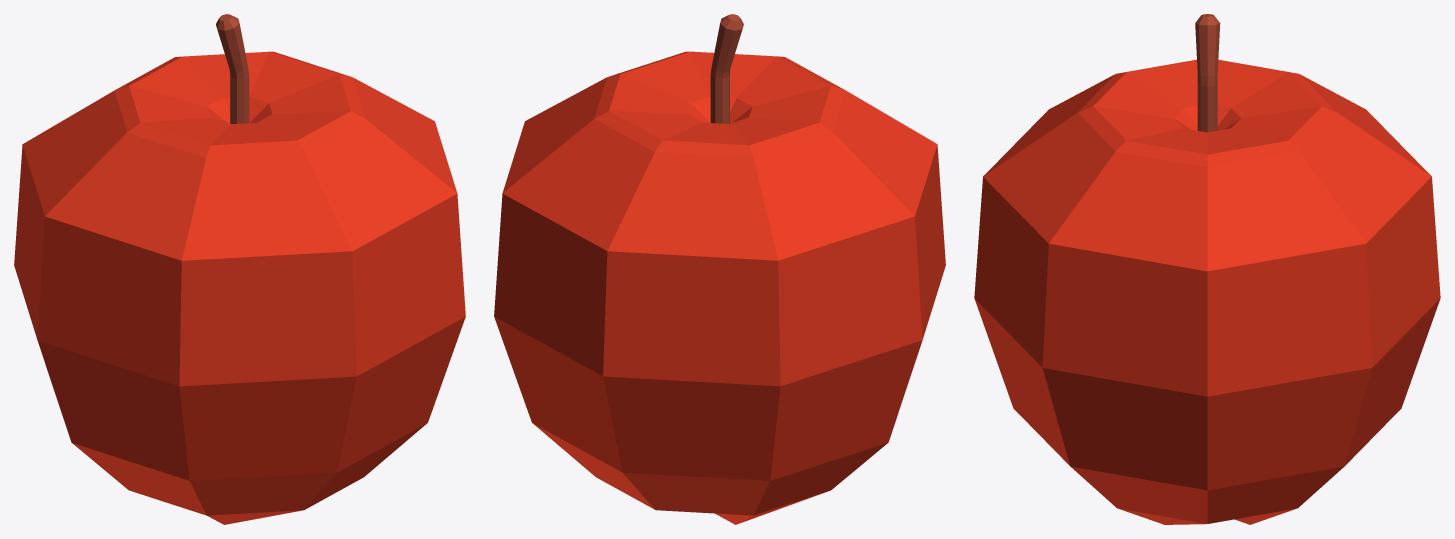
The model's file is Apple.fbx.
3 views of the same model, side by side, from view 1: azimuth 30°, elevation 25°; view 2: azimuth 150°, elevation 25°; view 3: azimuth 270°, elevation 25° (orthographic).
Parts seen in each view (by area): view 1: Manzana; view 2: Manzana; view 3: Manzana.
Part boxes in pixels (<box>): Manzana: <box>14,14,465,524</box>; Manzana: <box>494,14,945,524</box>; Manzana: <box>974,14,1440,524</box>.
Size of the model in its own units: 92.82 by 107 by 92.82.
